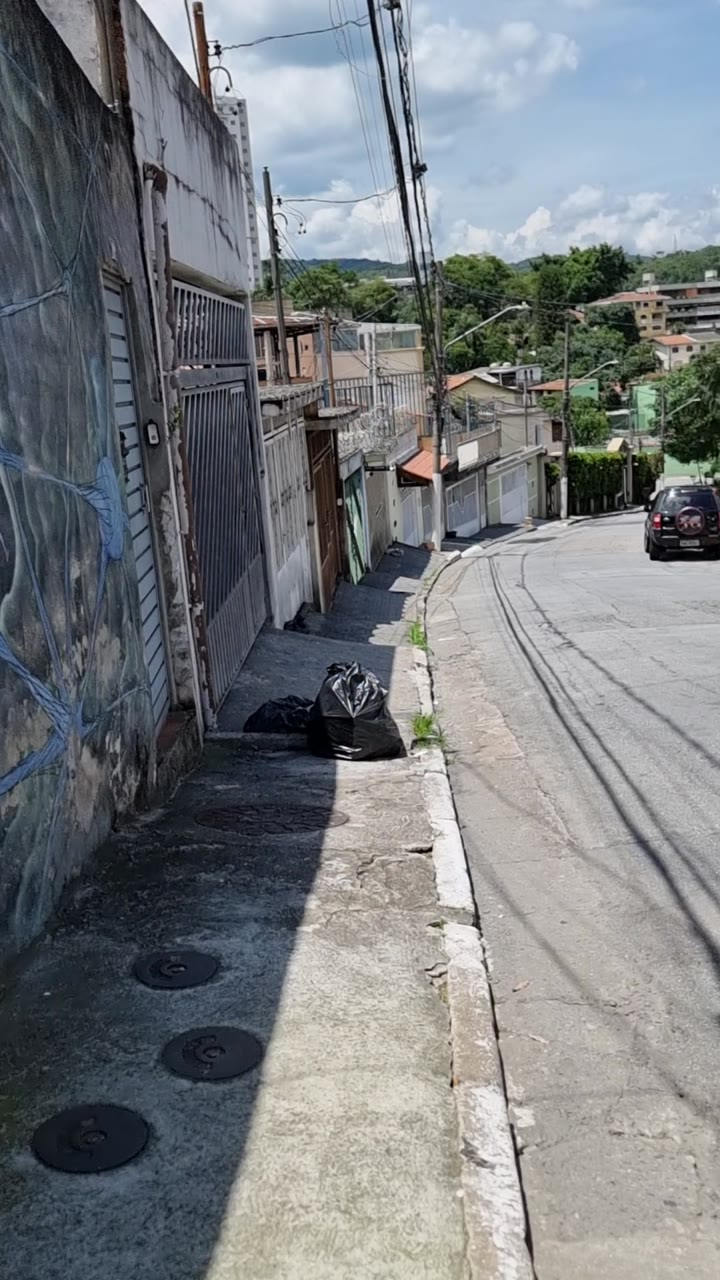obstaculo: (308, 662, 403, 760), (244, 695, 313, 733)
